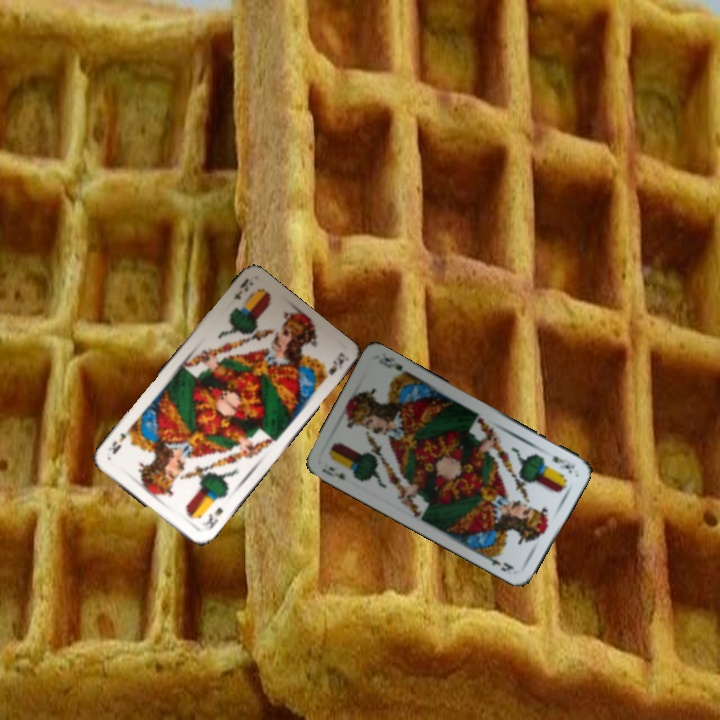EK: (197, 503, 226, 534), (229, 275, 255, 302), (548, 451, 577, 474), (318, 462, 348, 482)
